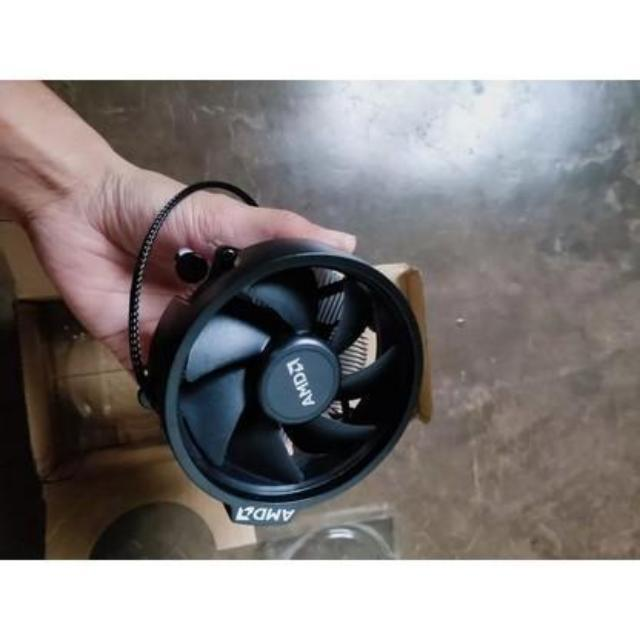CPU_Fan: (144, 242, 426, 520)
